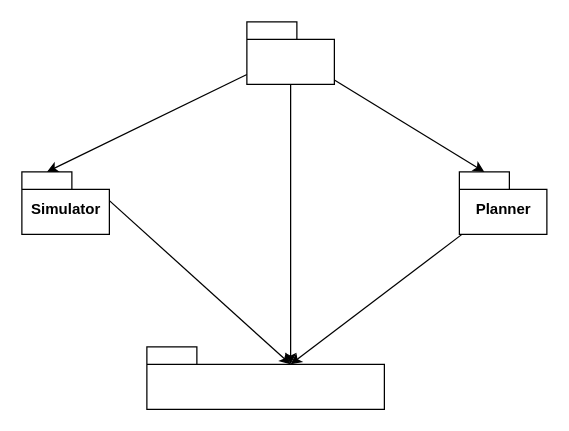
Some shapes in this 569 by 431 pixel diagram are drawn without their labels. The shapes that lost their labels are listed below. From the top down, each one's centre as x and y in pixels, then its label:
At pixel 290 52: "Controller".
At pixel 265 377: "Core".
